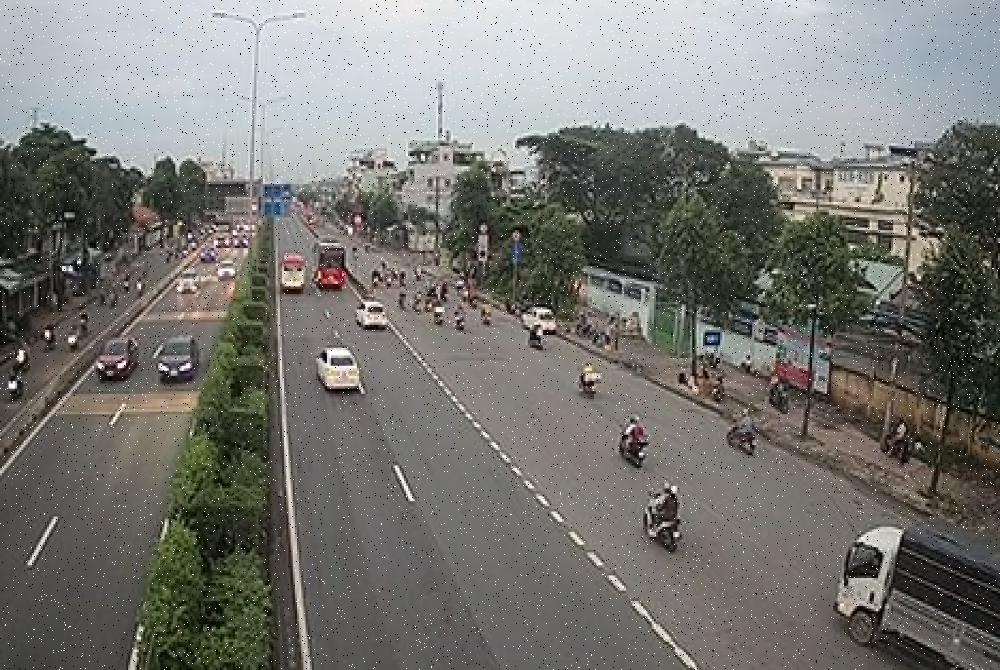car: (95, 332, 143, 388), (316, 346, 365, 398), (158, 334, 201, 385)
truck: (839, 527, 1000, 670)
